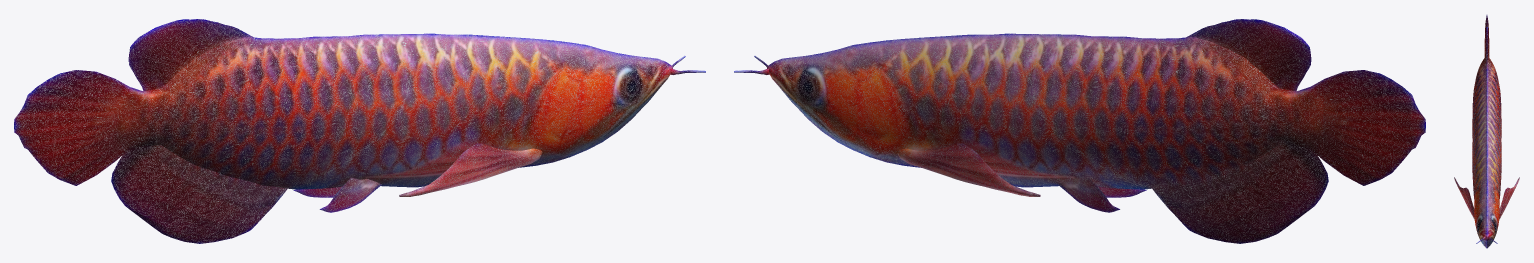
Rendered from Arwana.fbx.
The picture shows the model from 3 angles, left to right: view 1: azimuth 30°, elevation 25°; view 2: azimuth 150°, elevation 25°; view 3: azimuth 270°, elevation 25°; orthographic projection. The views are drawn at different scales.
Parts seen in each view (by area): view 1: group_0.003, group_0.004, group_0.001, group_0.005; view 2: group_0.003, group_0.004, group_0.007, group_0; view 3: group_0.003, group_0.001, group_0.007, group_0.004.
Boxes of the visible parts, left/top/right/bottom form: group_0.003: left=14, top=33, right=672, bottom=243; group_0.004: left=128, top=19, right=253, bottom=91; group_0.001: left=399, top=143, right=542, bottom=196; group_0.005: left=319, top=177, right=381, bottom=212; group_0.003: left=767, top=33, right=1425, bottom=243; group_0.004: left=1186, top=19, right=1311, bottom=91; group_0.007: left=897, top=143, right=1040, bottom=196; group_0: left=1058, top=177, right=1120, bottom=212; group_0.003: left=1472, top=15, right=1501, bottom=248; group_0.001: left=1454, top=177, right=1474, bottom=219; group_0.007: left=1499, top=177, right=1519, bottom=219; group_0.004: left=1485, top=27, right=1488, bottom=64.
Size of the model in its own units: 820 by 269 by 137.
